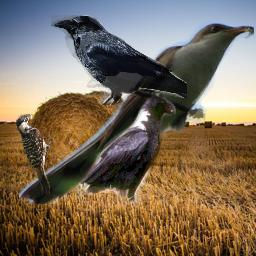Crow: (51, 15, 187, 105), (75, 92, 176, 205)
Cuckoo: (19, 19, 254, 204)
Woodpecker: (16, 114, 57, 195)
